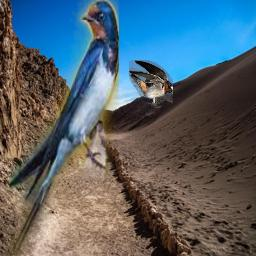Swallow: (9, 0, 119, 256), (129, 60, 173, 108)
